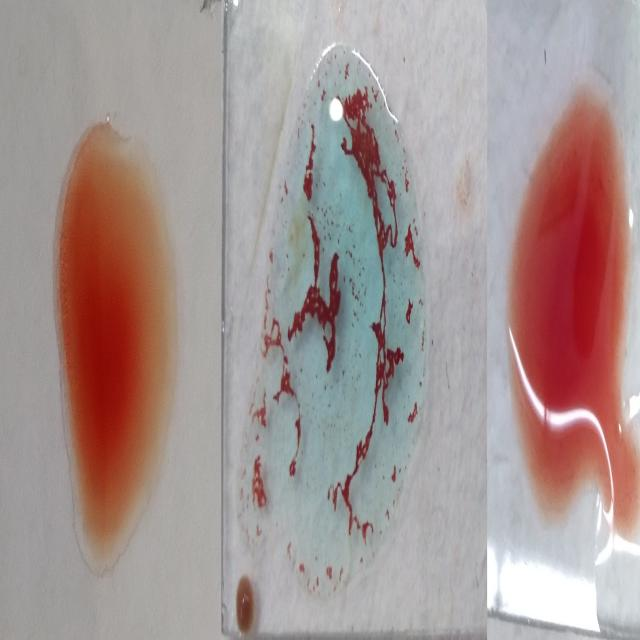A: (254, 26, 436, 585)
